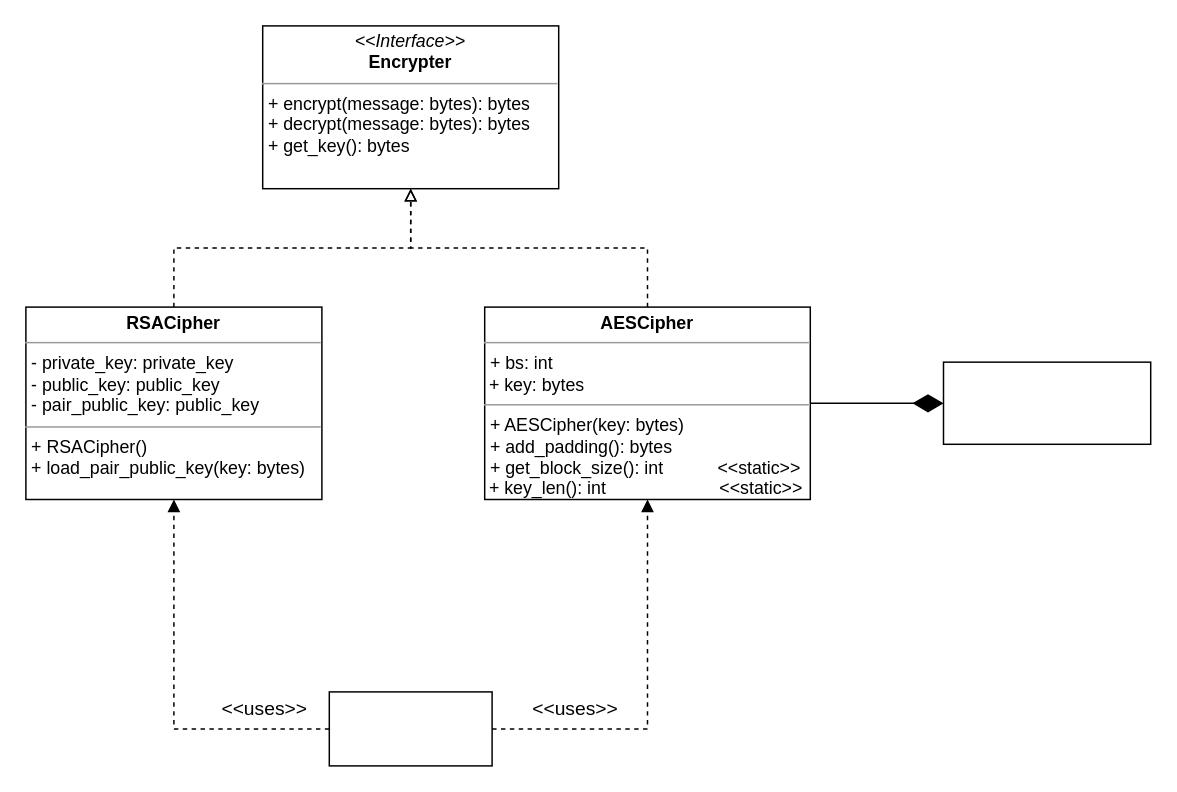
This 1177x792 diagram has some shape labels left out. Here are the shapes that lost their labels. From the top down, the centre of each, then its label:
At pixel 1046 402: "NodeConnection".
At pixel 410 728: "BaseNode".
